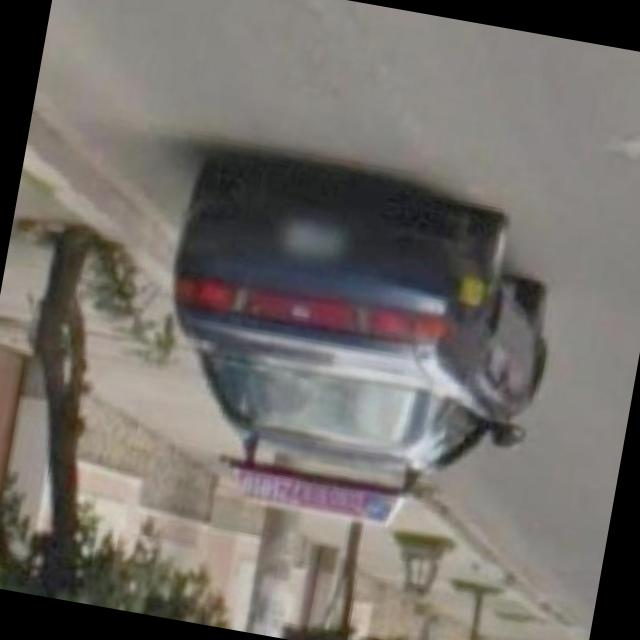car: (136, 162, 564, 538)
